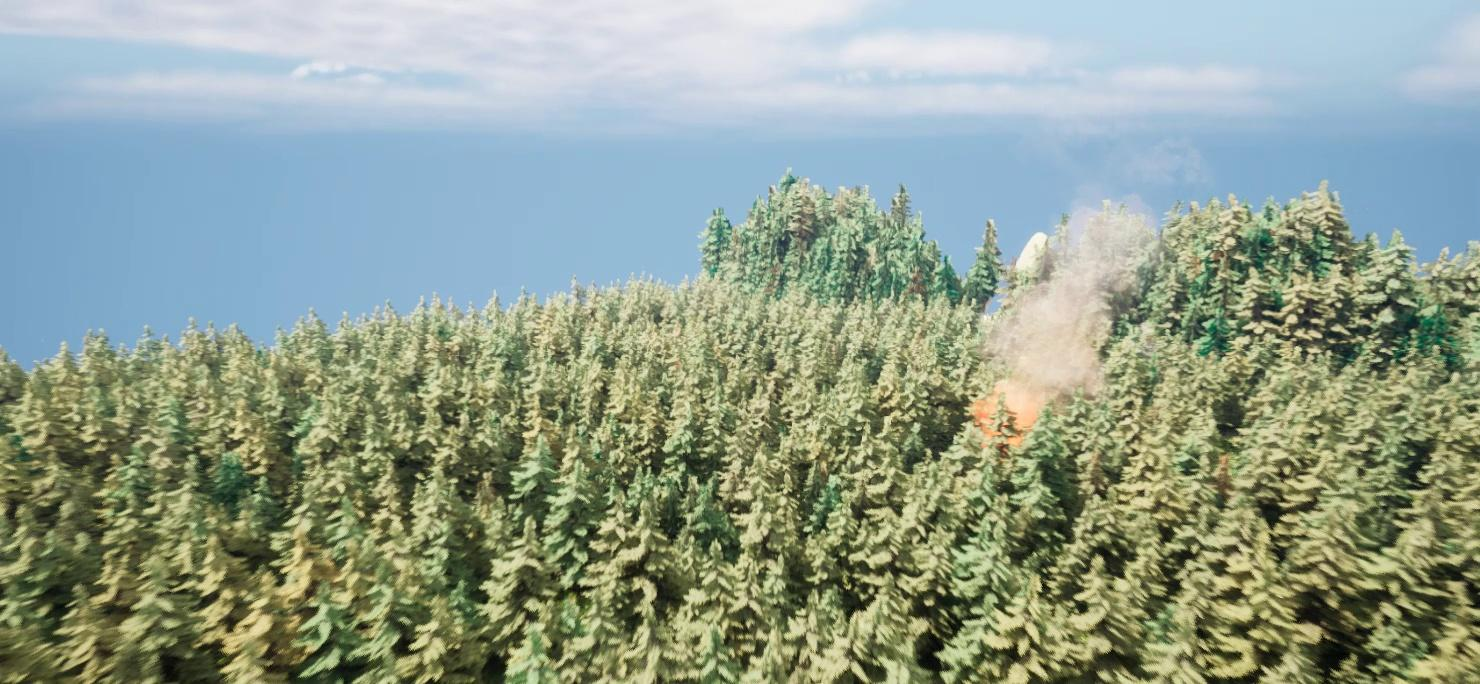smoke: (970, 127, 1221, 440)
